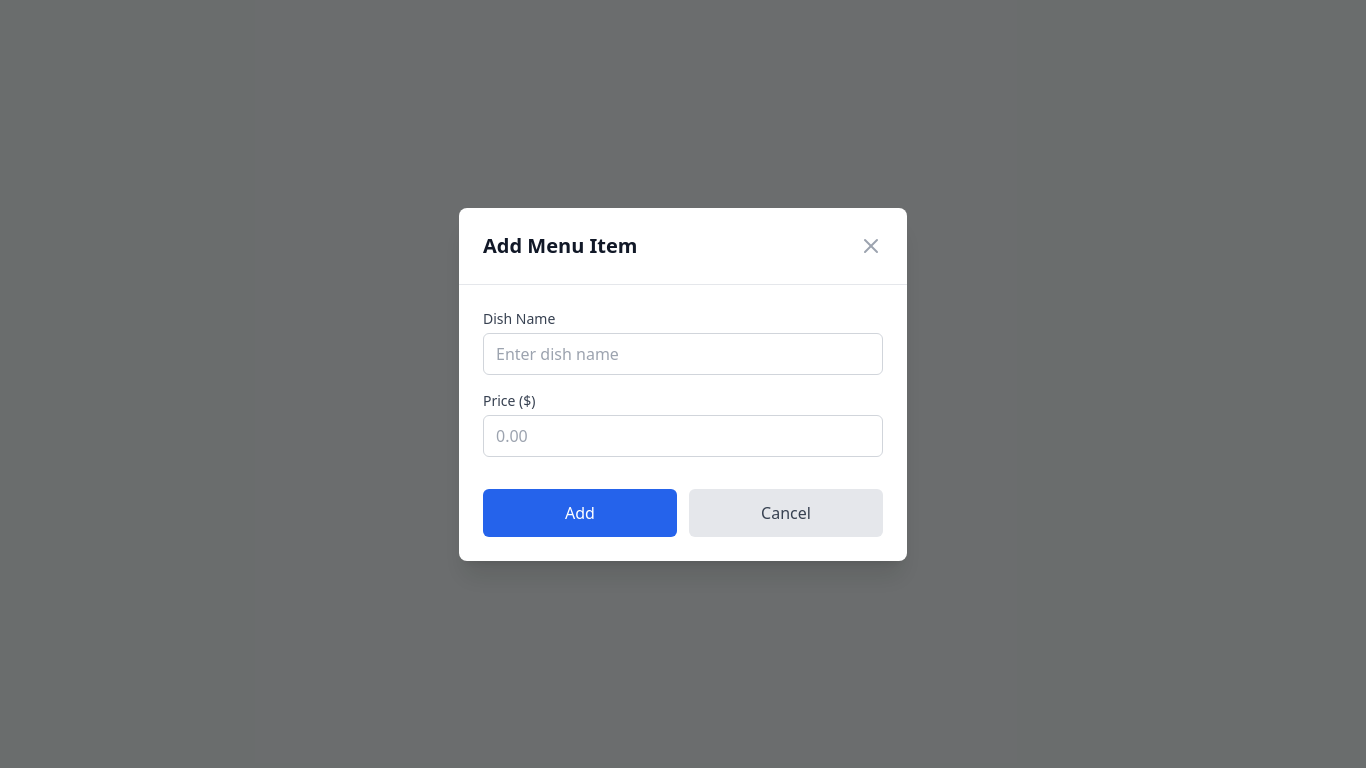
MenuItemForm › displays validation error for empty dish name
Type "10.99" into the number field labelled "Price ($)".
click(683, 436); type("10.99")  # box [483,414,883,456]
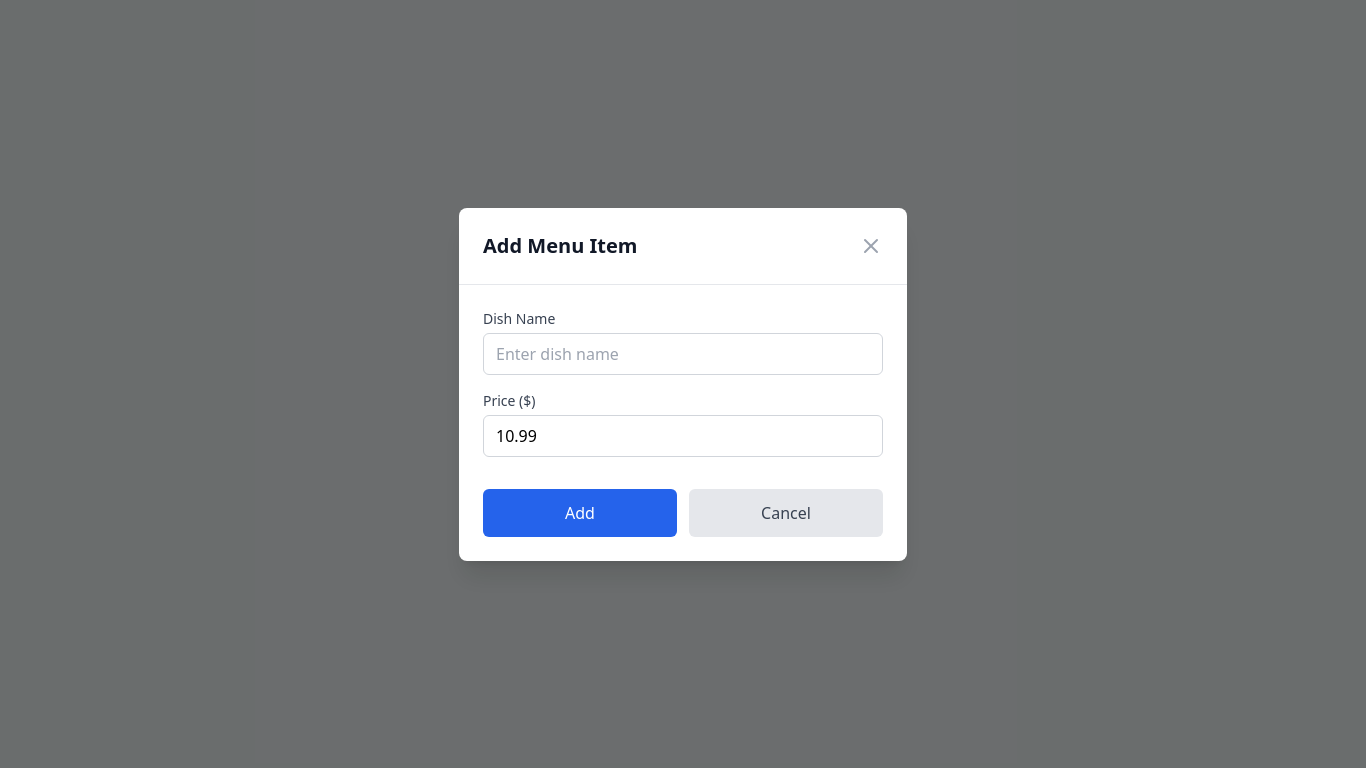
Click the button "Add".
click(580, 512)  # box [483,488,677,536]
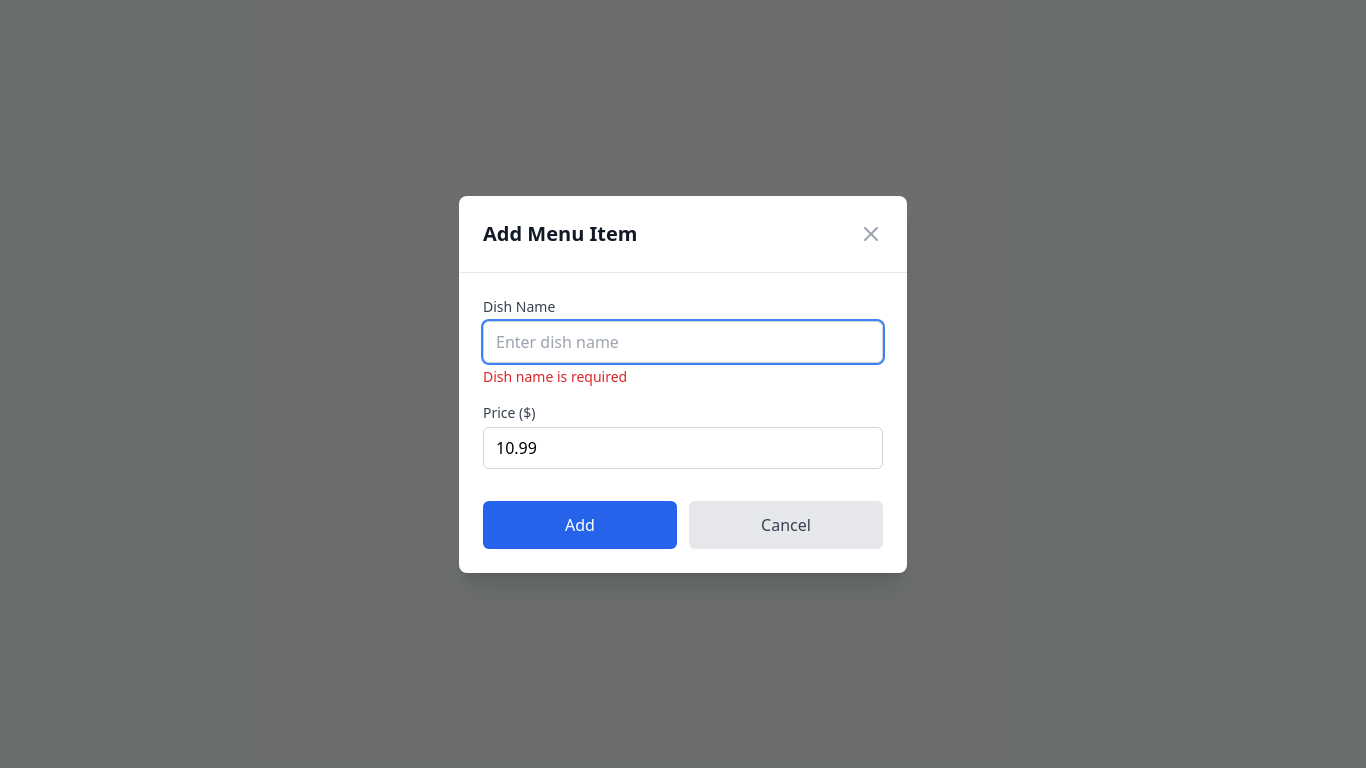
Result: the text "Dish name is required" is shown at [483,366,627,386]
